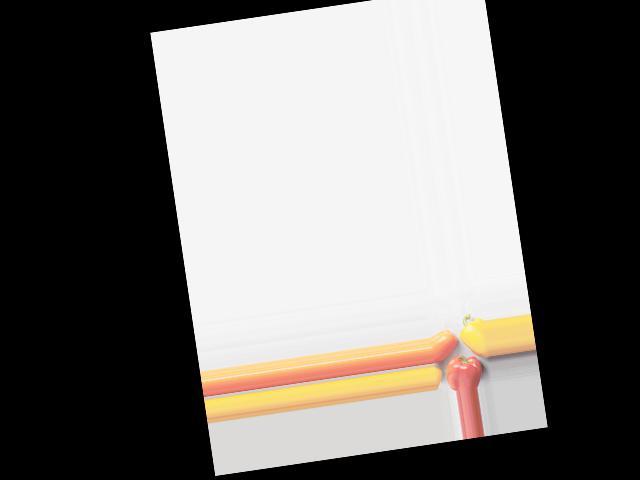bell_pepper: (444, 353, 487, 390)
